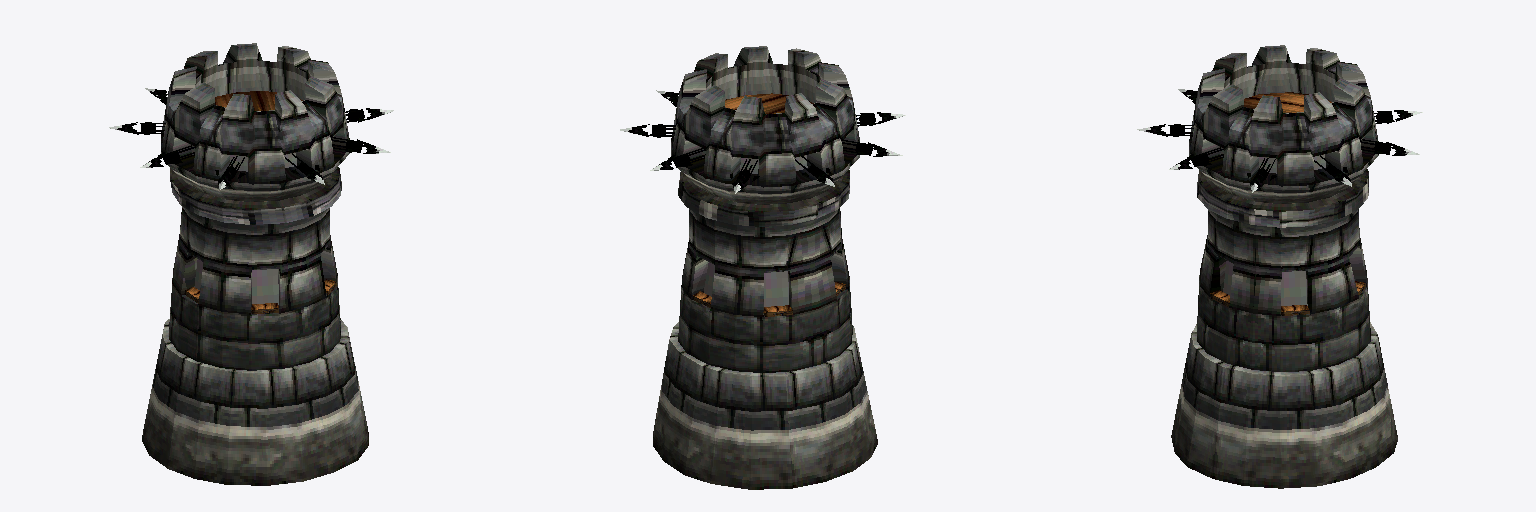
The picture shows the model from 3 angles: view 1: azimuth 30°, elevation 25°; view 2: azimuth 150°, elevation 25°; view 3: azimuth 270°, elevation 25°; orthographic projection.
Parts seen in each view (by area): view 1: Mesh; view 2: Mesh; view 3: Mesh.
Part boxes in pixels (bbox=[...]): Mesh: bbox=[109, 43, 393, 485]; Mesh: bbox=[620, 46, 905, 489]; Mesh: bbox=[1137, 45, 1422, 488].
Size of the model in its own units: 29.82 by 41.61 by 29.55.
Materials: 1 (1 with a texture image).